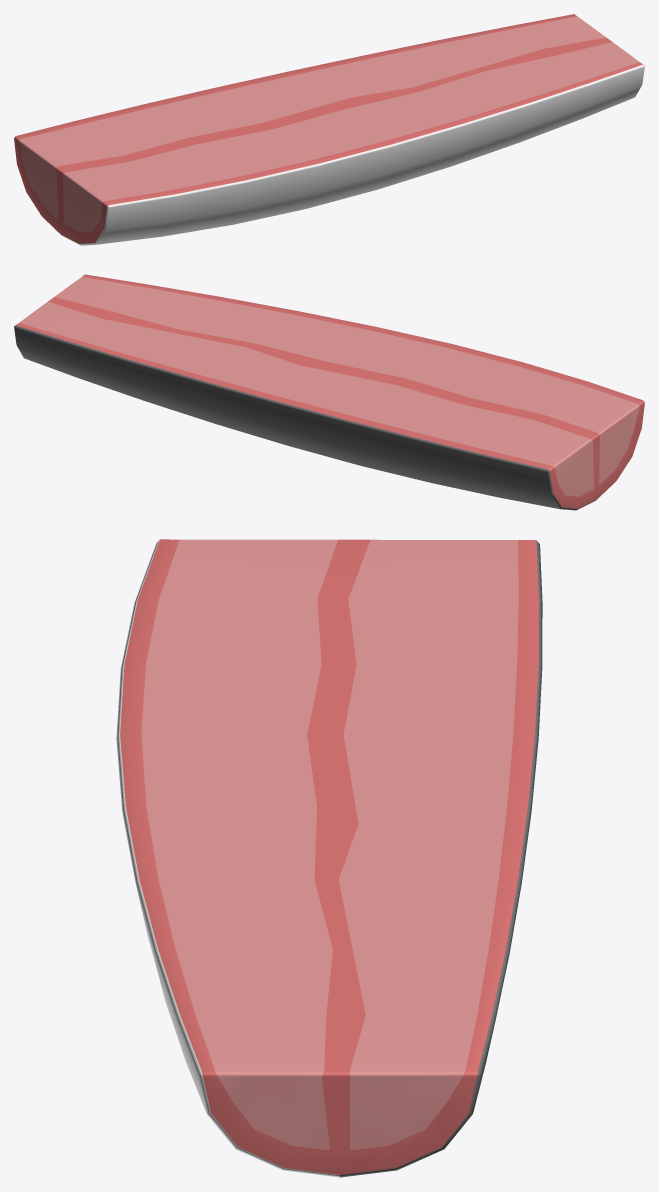
Rendered from Sardine_3_Fillet_1.fbx.
3 views of the same model, one above another, from view 1: azimuth 30°, elevation 25°; view 2: azimuth 150°, elevation 25°; view 3: azimuth 270°, elevation 25° (orthographic). The views are drawn at different scales.
Visible parts, largest first — view 1: Sardine_3_Fillet_1; view 2: Sardine_3_Fillet_1; view 3: Sardine_3_Fillet_1.
Boxes of the visible parts, box(x1,y1,x2,y2) form: Sardine_3_Fillet_1: box(14, 14, 644, 245); Sardine_3_Fillet_1: box(14, 274, 644, 510); Sardine_3_Fillet_1: box(116, 539, 542, 1177).
Bounding box in the file's own units: 15.07 × 1.96 × 5.07.
